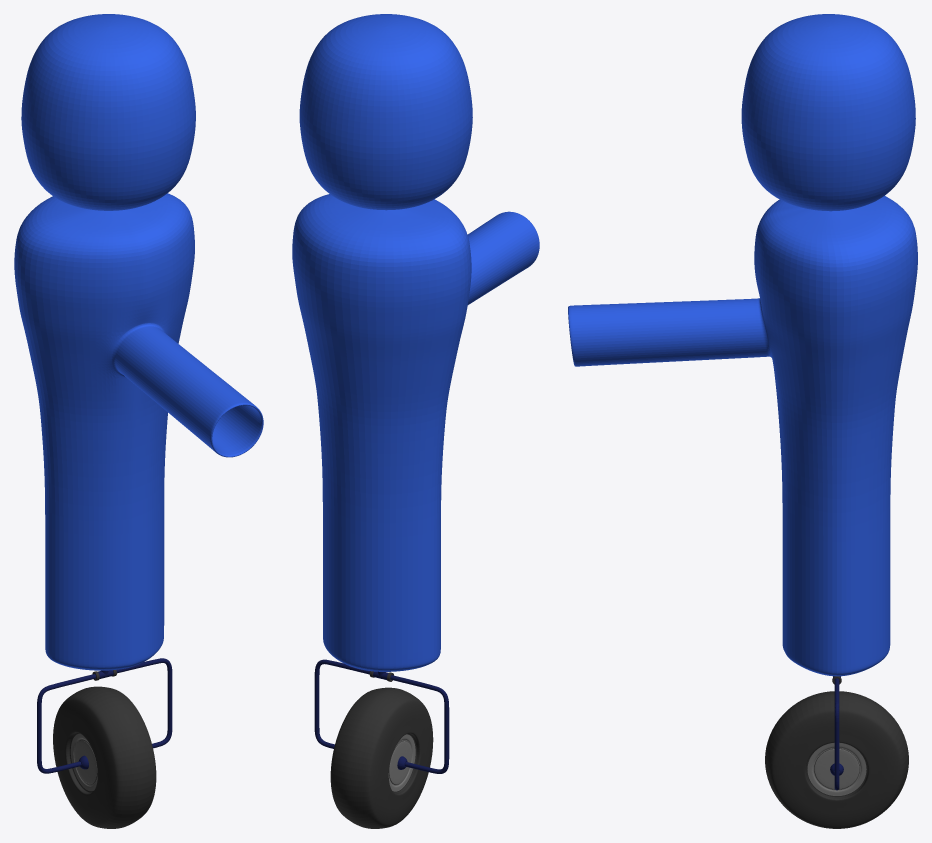
The model's file is ground_roller_sniper.fbx.
3 renders of one model, left to right at view 1: azimuth 30°, elevation 25°; view 2: azimuth 150°, elevation 25°; view 3: azimuth 270°, elevation 25°, orthographic.
Visible parts, largest first — view 1: Body, Wheel, Axis_Wheel; view 2: Body, Wheel, Axis_Wheel; view 3: Body, Wheel, Axis_Wheel.
Boxes of the visible parts, x1=… form: Body: x1=14, y1=14, x2=263, y2=670; Wheel: x1=53, y1=686, x2=156, y2=828; Axis_Wheel: x1=37, y1=658, x2=172, y2=773; Body: x1=292, y1=14, x2=539, y2=671; Wheel: x1=330, y1=687, x2=433, y2=828; Axis_Wheel: x1=314, y1=659, x2=449, y2=773; Body: x1=568, y1=14, x2=917, y2=676; Wheel: x1=765, y1=691, x2=908, y2=828; Axis_Wheel: x1=834, y1=678, x2=839, y2=790.
Bounding box in the file's own units: 144 × 653 × 260.
6 materials, 1 textured.
